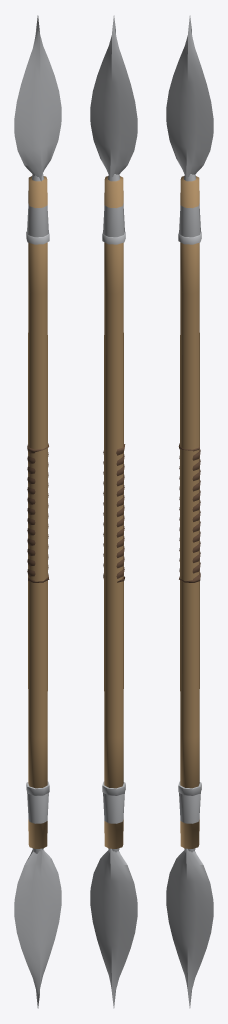
Rendered from double-spear.glb.
The picture shows the model from 3 angles, left to right: view 1: azimuth 30°, elevation 25°; view 2: azimuth 150°, elevation 25°; view 3: azimuth 330°, elevation 25°; orthographic projection.
Parts seen in each view (by area): view 1: double-spear; view 2: double-spear; view 3: double-spear.
Part boxes in pixels (x1,y1,x2,y2): double-spear: [14, 15, 61, 1008]; double-spear: [90, 15, 137, 1008]; double-spear: [166, 15, 213, 1008].
Size of the model in its own units: 0.2223 by 4.49 by 0.0991.
